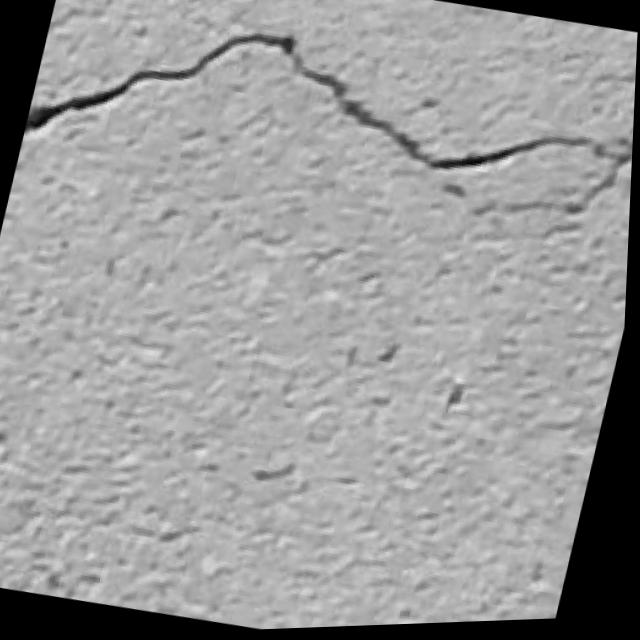Crack: (14, 0, 640, 286)
